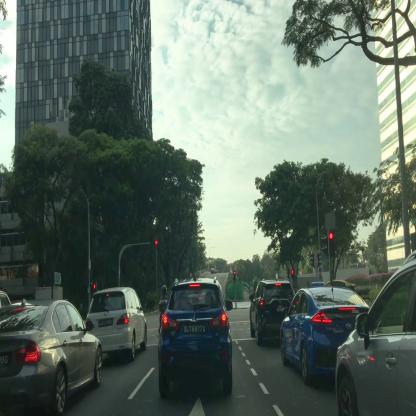red_traffic_light: (329, 232, 333, 257), (151, 240, 157, 245), (234, 270, 236, 282)
